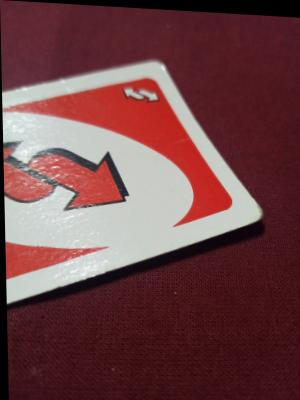reverse: (2, 123, 136, 220), (113, 76, 164, 111)
